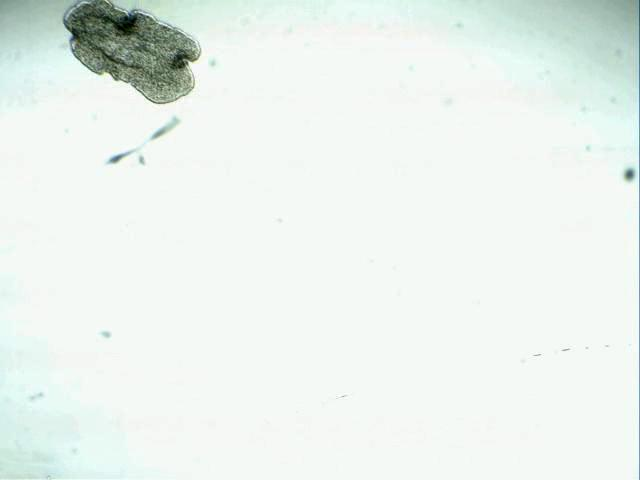Placozoan: (63, 0, 203, 105)
